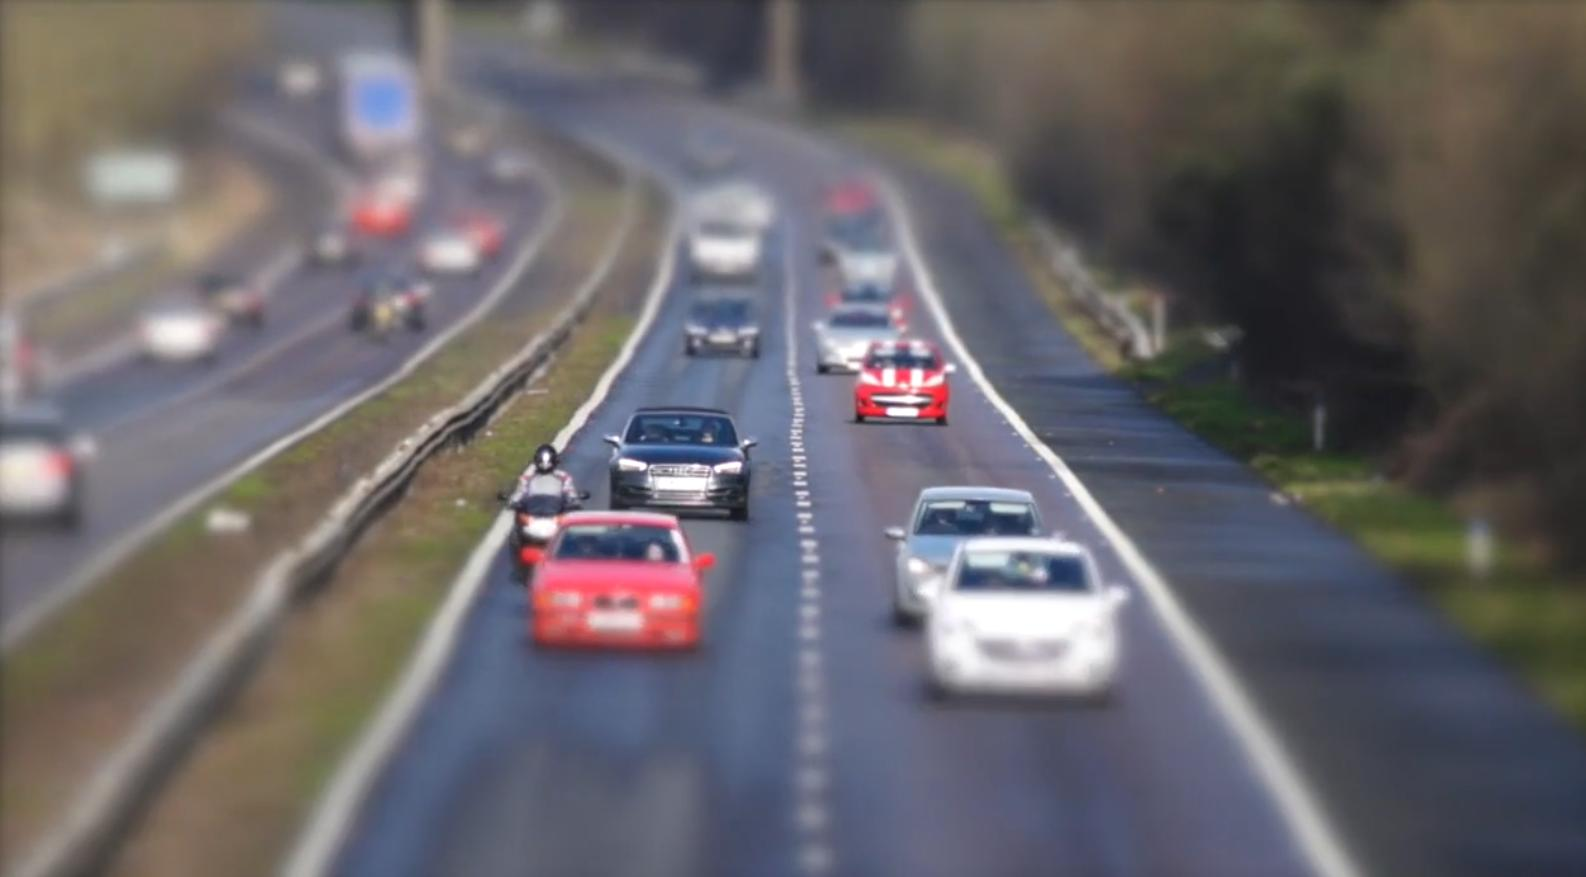car: (930, 525, 1172, 765), (483, 525, 772, 664), (625, 397, 772, 512), (858, 335, 999, 434)
motorcycle: (495, 435, 599, 555)
